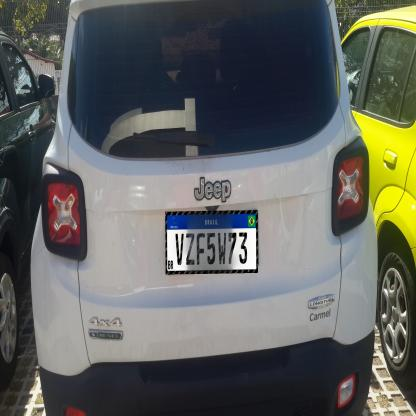PlacaM: (165, 210, 258, 274)
